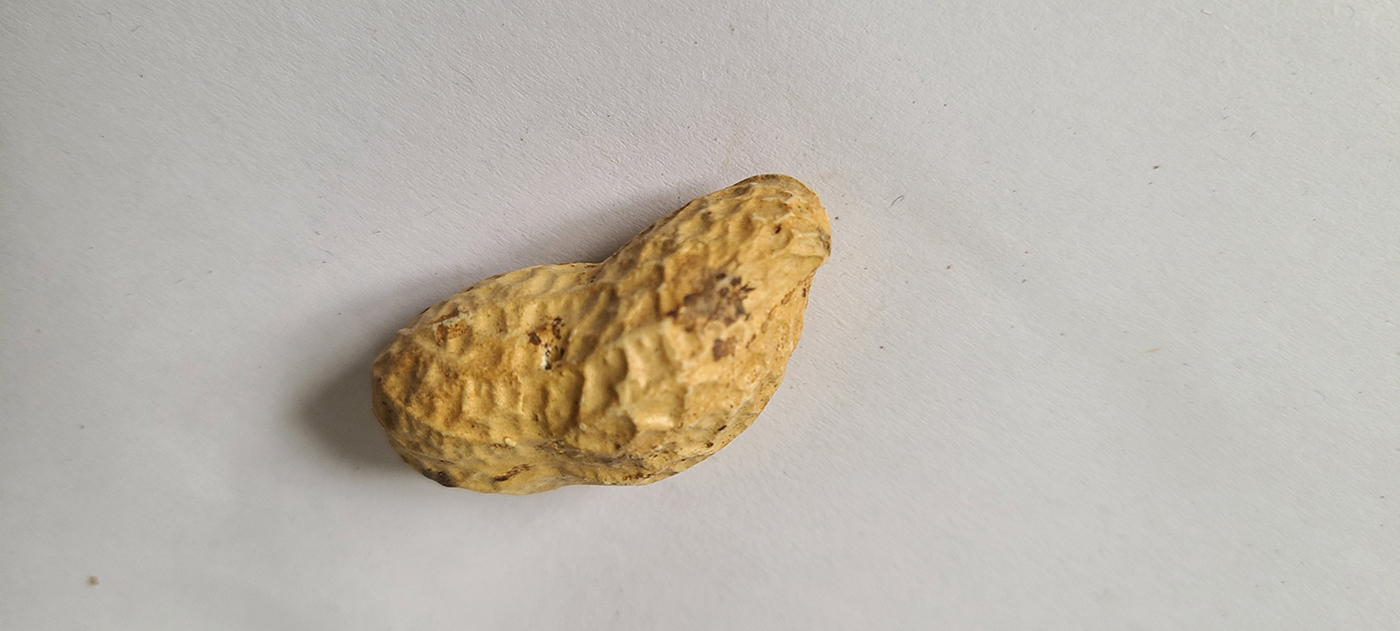h: (367, 172, 835, 499)
